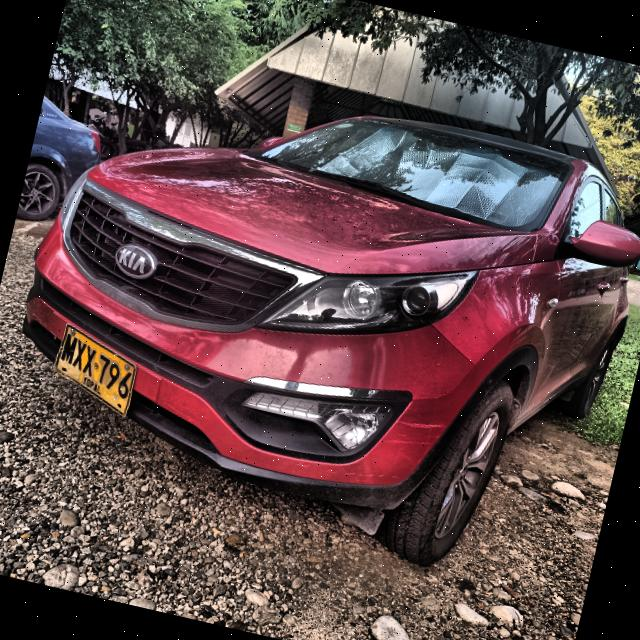plate: (55, 325, 134, 415)
